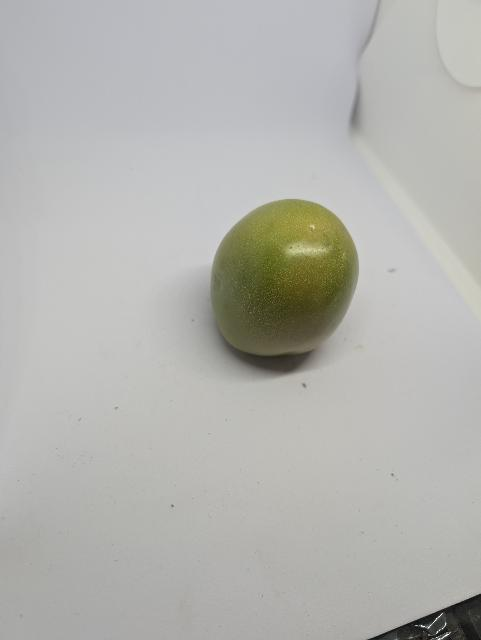green: (209, 197, 362, 359)
